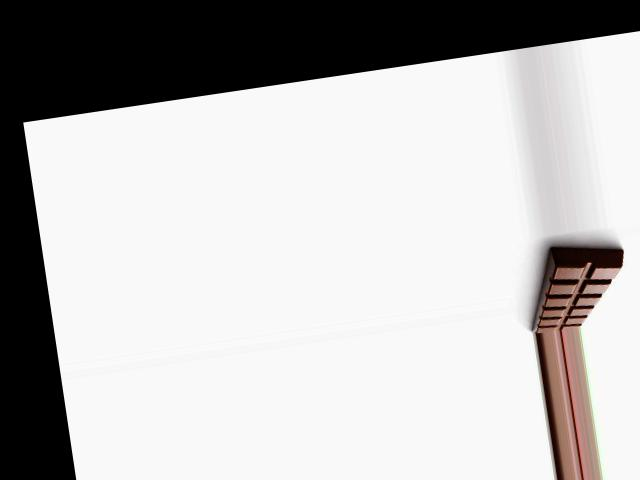chocolate: (513, 234, 634, 334)
